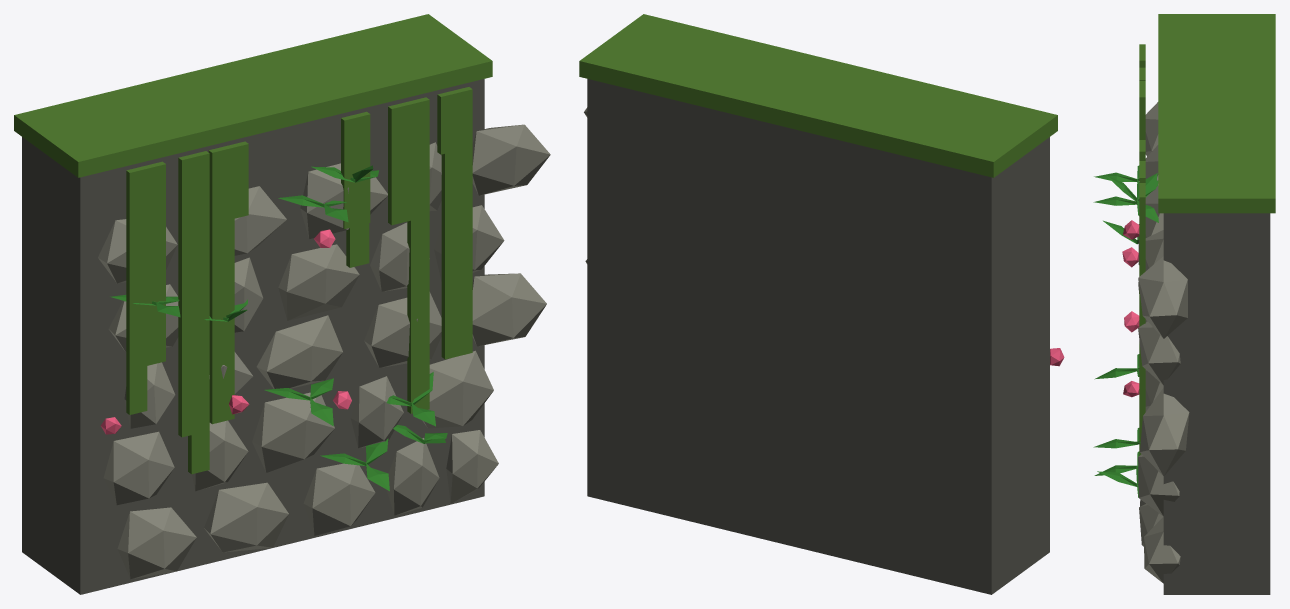
The model's file is rock_wall_vegetation.glb.
3 renders of one model, left to right at view 1: azimuth 30°, elevation 25°; view 2: azimuth 150°, elevation 25°; view 3: azimuth 270°, elevation 25°, orthographic. The views are drawn at different scales.
Parts seen in each view (by area): view 1: stone_dark-col, moss-col, stone, leaf, flower_pink; view 2: stone_dark-col, moss-col; view 3: stone_dark-col, moss-col, stone, leaf, flower_pink.
Part boxes in pixels (box(x1,y1,x2,y2)): stone_dark-col: box(22, 79, 484, 594); moss-col: box(14, 14, 492, 474); stone: box(98, 124, 550, 579); leaf: box(110, 165, 447, 491); flower_pink: box(100, 229, 351, 434); stone_dark-col: box(587, 79, 1049, 594); moss-col: box(579, 14, 1057, 177); stone_dark-col: box(1163, 213, 1270, 594); moss-col: box(1139, 14, 1275, 455); stone: box(1138, 102, 1189, 583); leaf: box(1093, 165, 1158, 497); flower_pink: box(1122, 220, 1139, 397).
Size of the model in its own units: 4.63 by 4.13 by 1.71.
